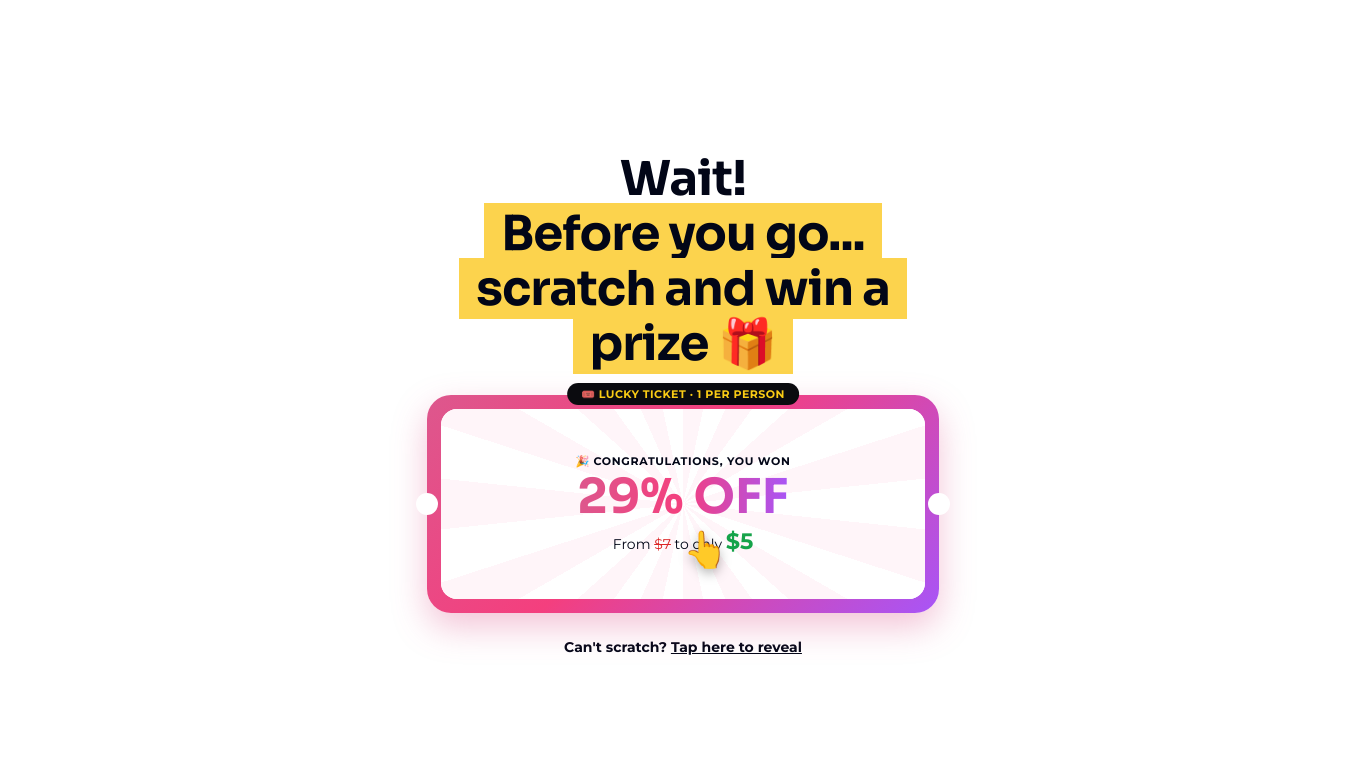
Test: App › a raspadinha revela o prêmio e leva à oferta
This screenshot has width=1366, height=768.
Check: the heading "Wait!" is shown, box [620, 148, 746, 209]
Check: the drawing is shown, box [441, 409, 925, 599]
Click the text "Tap here to reveal" at [736, 647], box [671, 638, 802, 656]
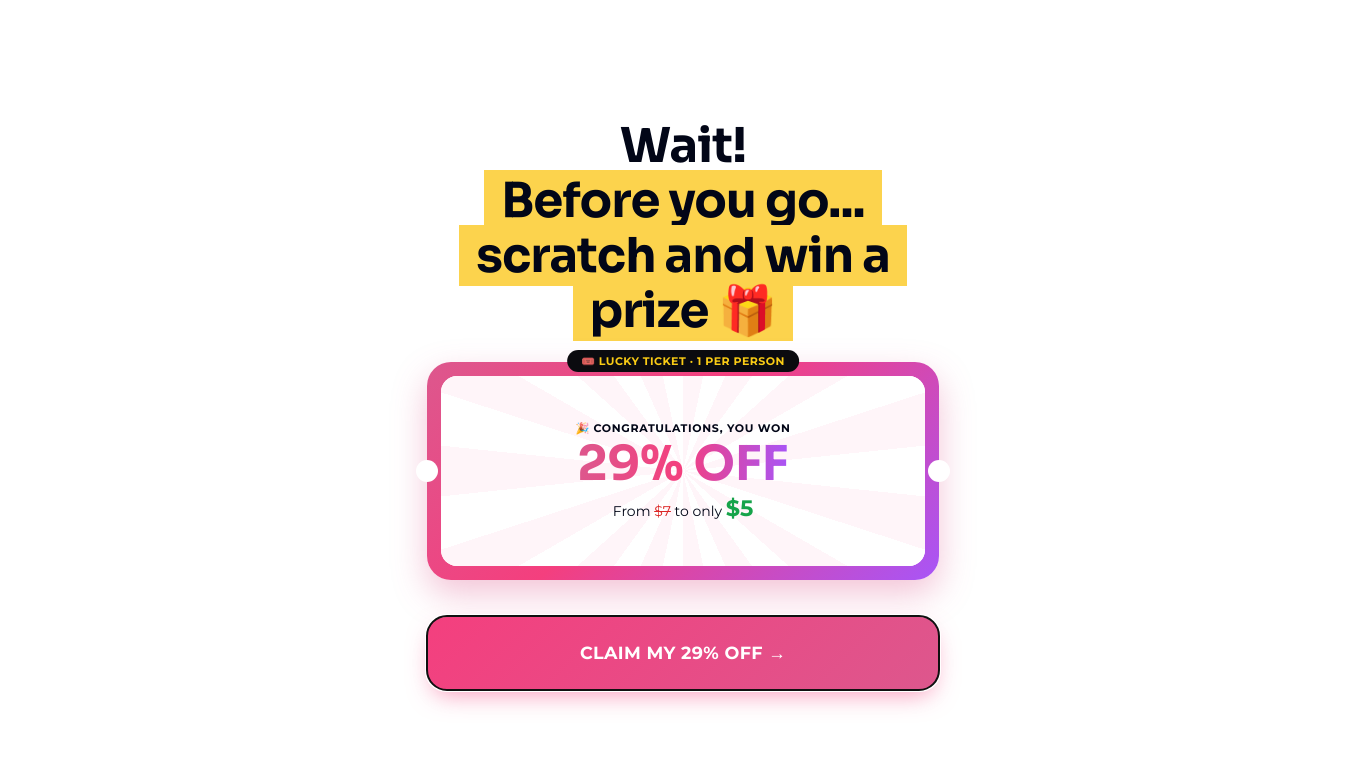
Check: the drawing is gone
Click the button "CLAIM MY 29% OFF →" at [683, 653], box [427, 616, 939, 690]
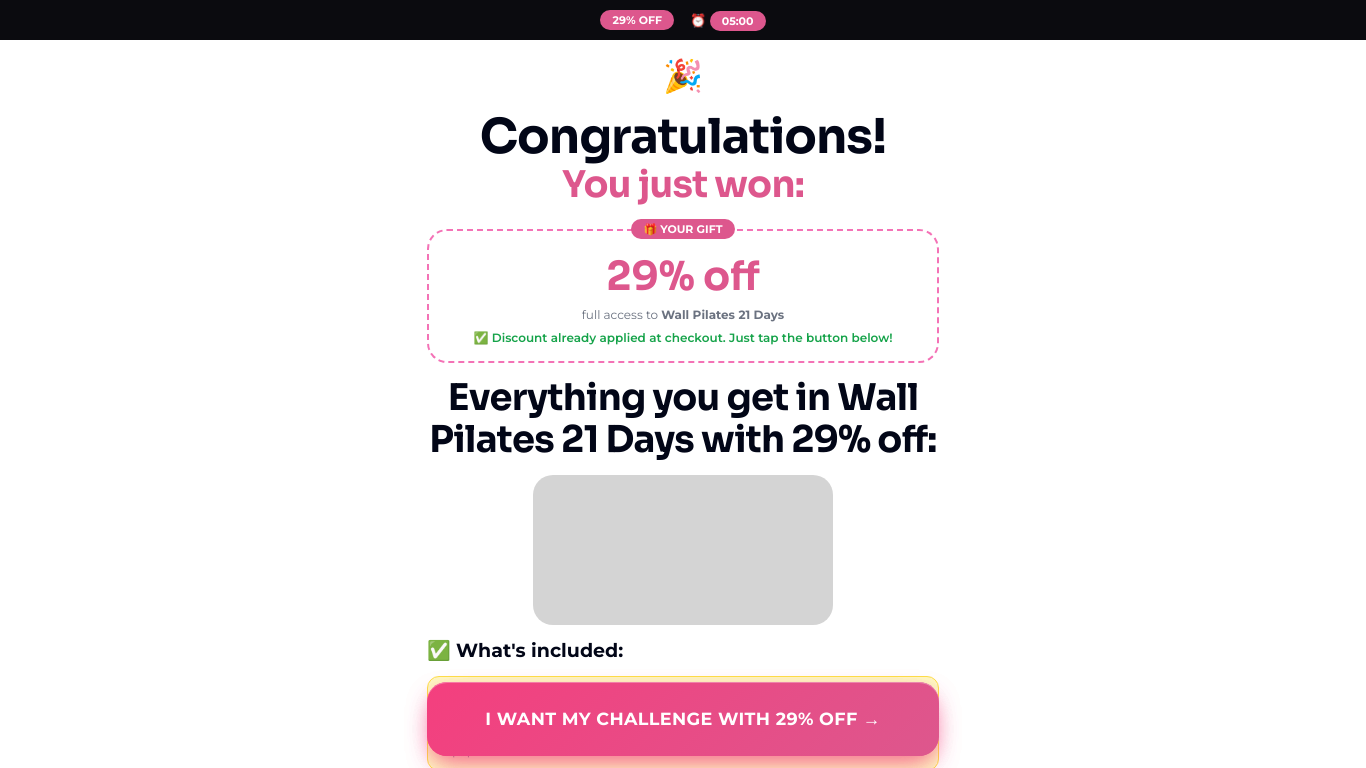
Check: the heading "Congratulations!" is shown, box [480, 106, 886, 167]
